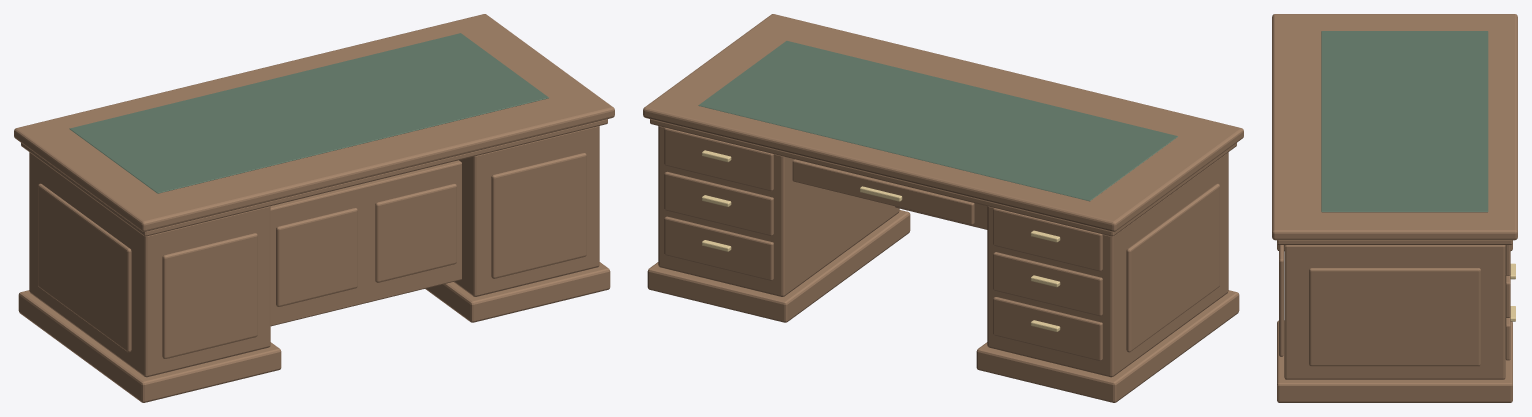
The model's file is desk.glb.
The picture shows the model from 3 angles, left to right: view 1: azimuth 30°, elevation 25°; view 2: azimuth 150°, elevation 25°; view 3: azimuth 270°, elevation 25°; orthographic projection. The views are drawn at different scales.
Visible parts, largest first — view 1: desk; view 2: desk; view 3: desk.
Boxes of the visible parts, box(x1,y1,x2,y2) form: desk: box(14, 14, 614, 402); desk: box(643, 14, 1243, 402); desk: box(1272, 14, 1517, 402).
Size of the model in its own units: 2.1 by 0.784 by 1.
